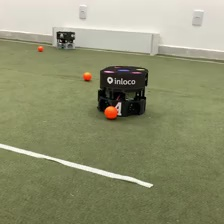ball: (102, 104, 119, 120), (81, 69, 93, 81), (36, 43, 44, 52)
goal: (50, 24, 161, 57)
robot: (95, 63, 150, 117), (55, 29, 77, 49)
